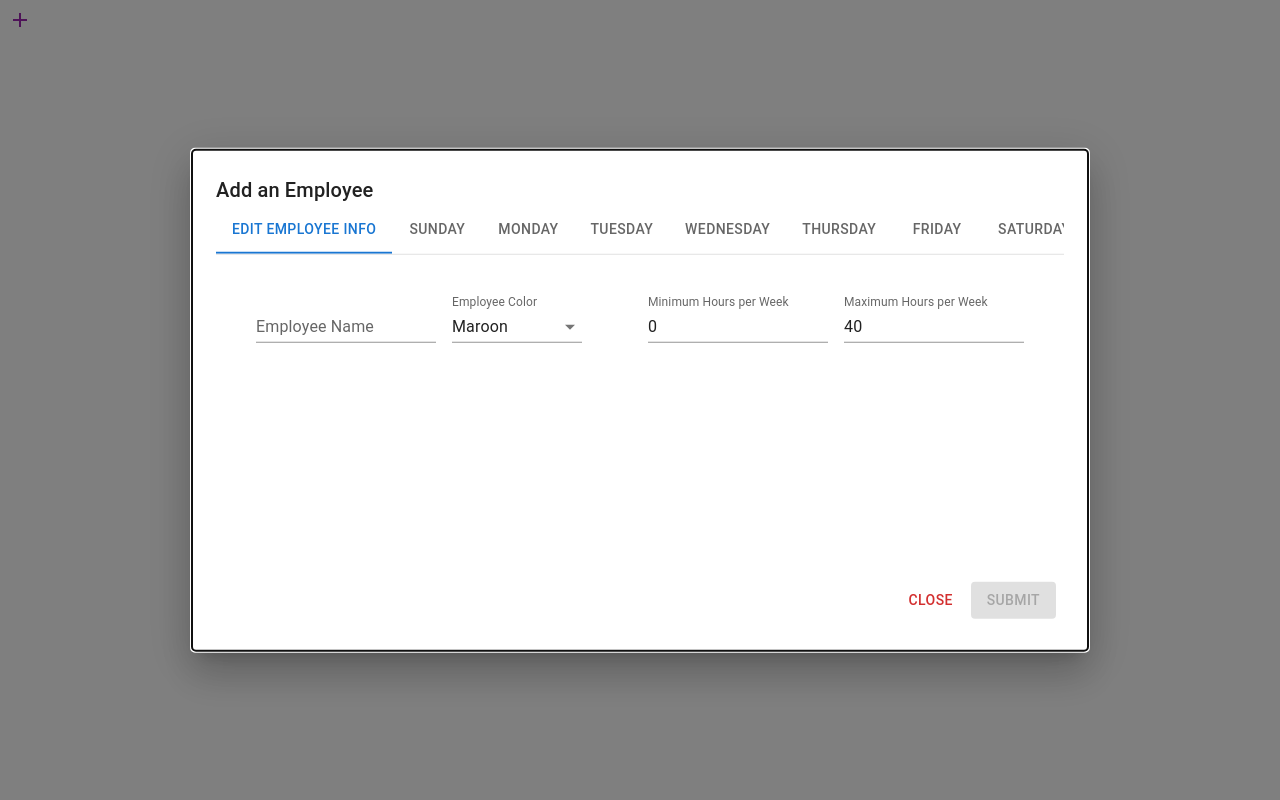
it: Modal Switches Tabs
Navigate to wednesday's tab
Click the tab "Wednesday" at (728, 230), box x1=669 y1=206 x2=786 y2=254
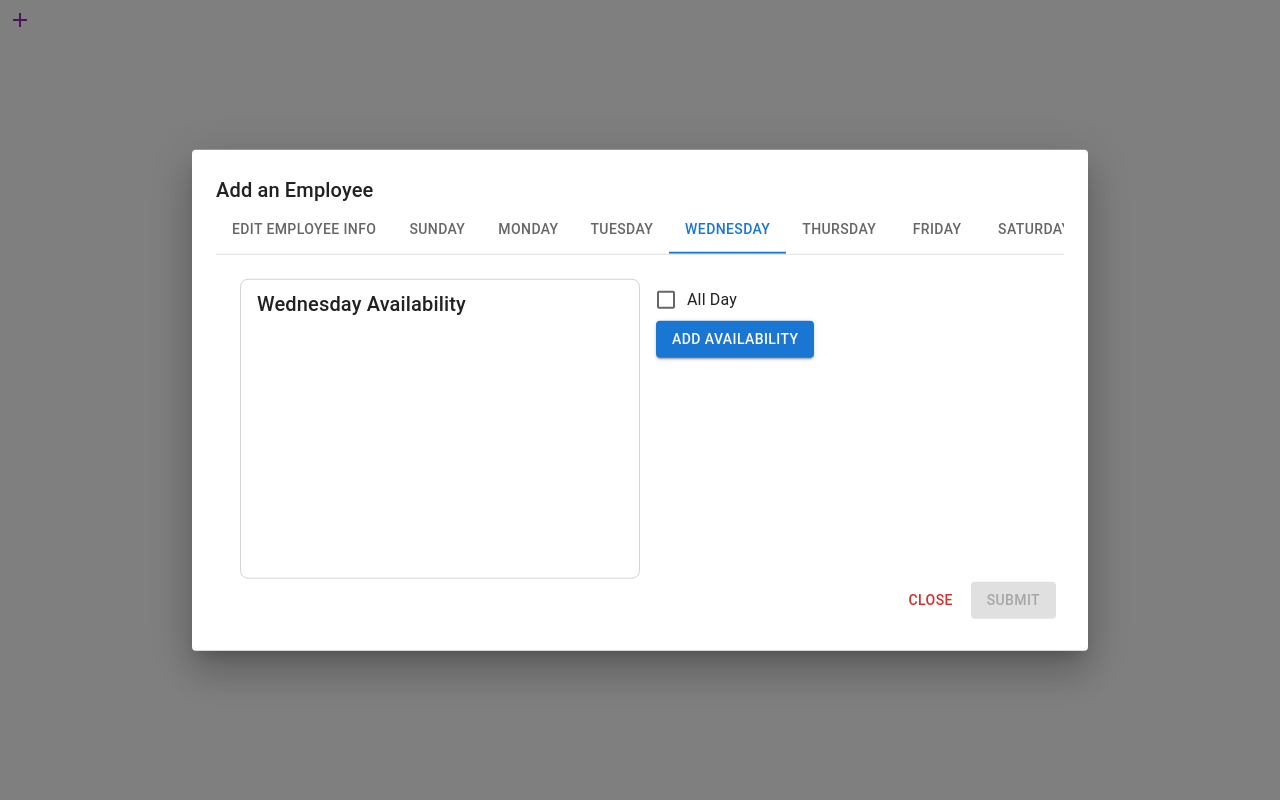
Expected: the heading "Wednesday Availability" is shown, x1=257 y1=292 x2=466 y2=316
